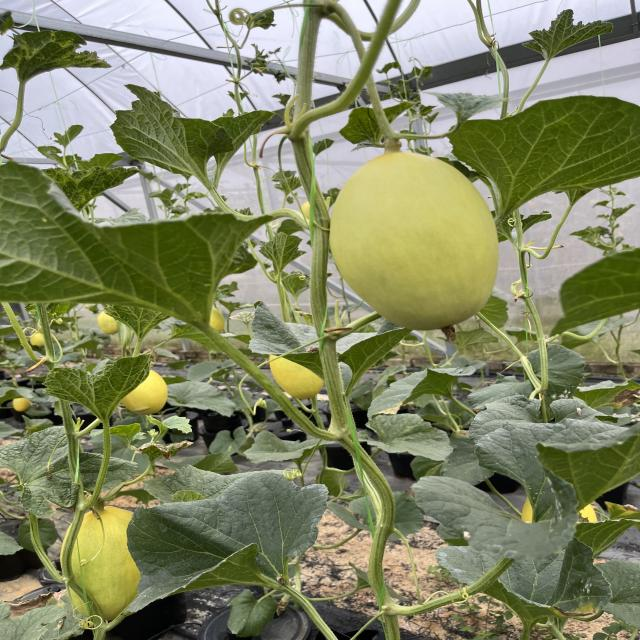CMV: (35, 353, 161, 421), (521, 8, 614, 62), (100, 306, 166, 333)
SLCV: (2, 27, 113, 86), (51, 154, 131, 207)
alternaria leaf blight: (364, 360, 481, 420)
bacterial wilt: (0, 590, 69, 640), (137, 440, 188, 460)
downy mildew: (106, 474, 324, 616)
healthy: (482, 92, 640, 203), (109, 82, 229, 188)
